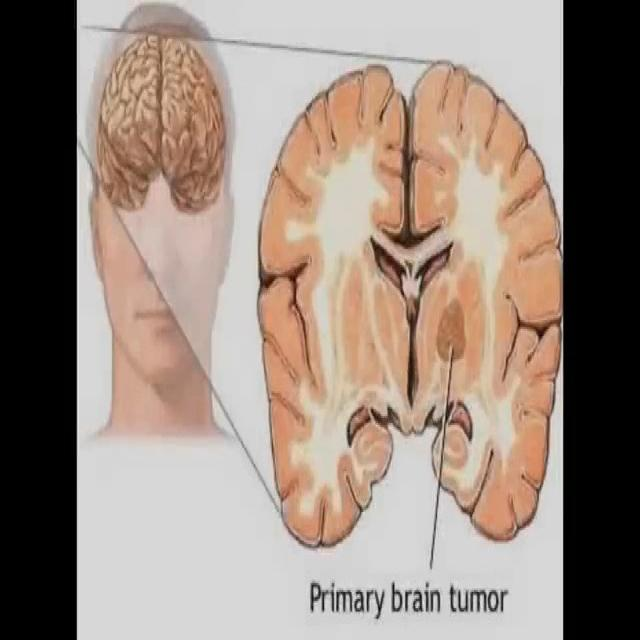tumor: (420, 293, 484, 374)
